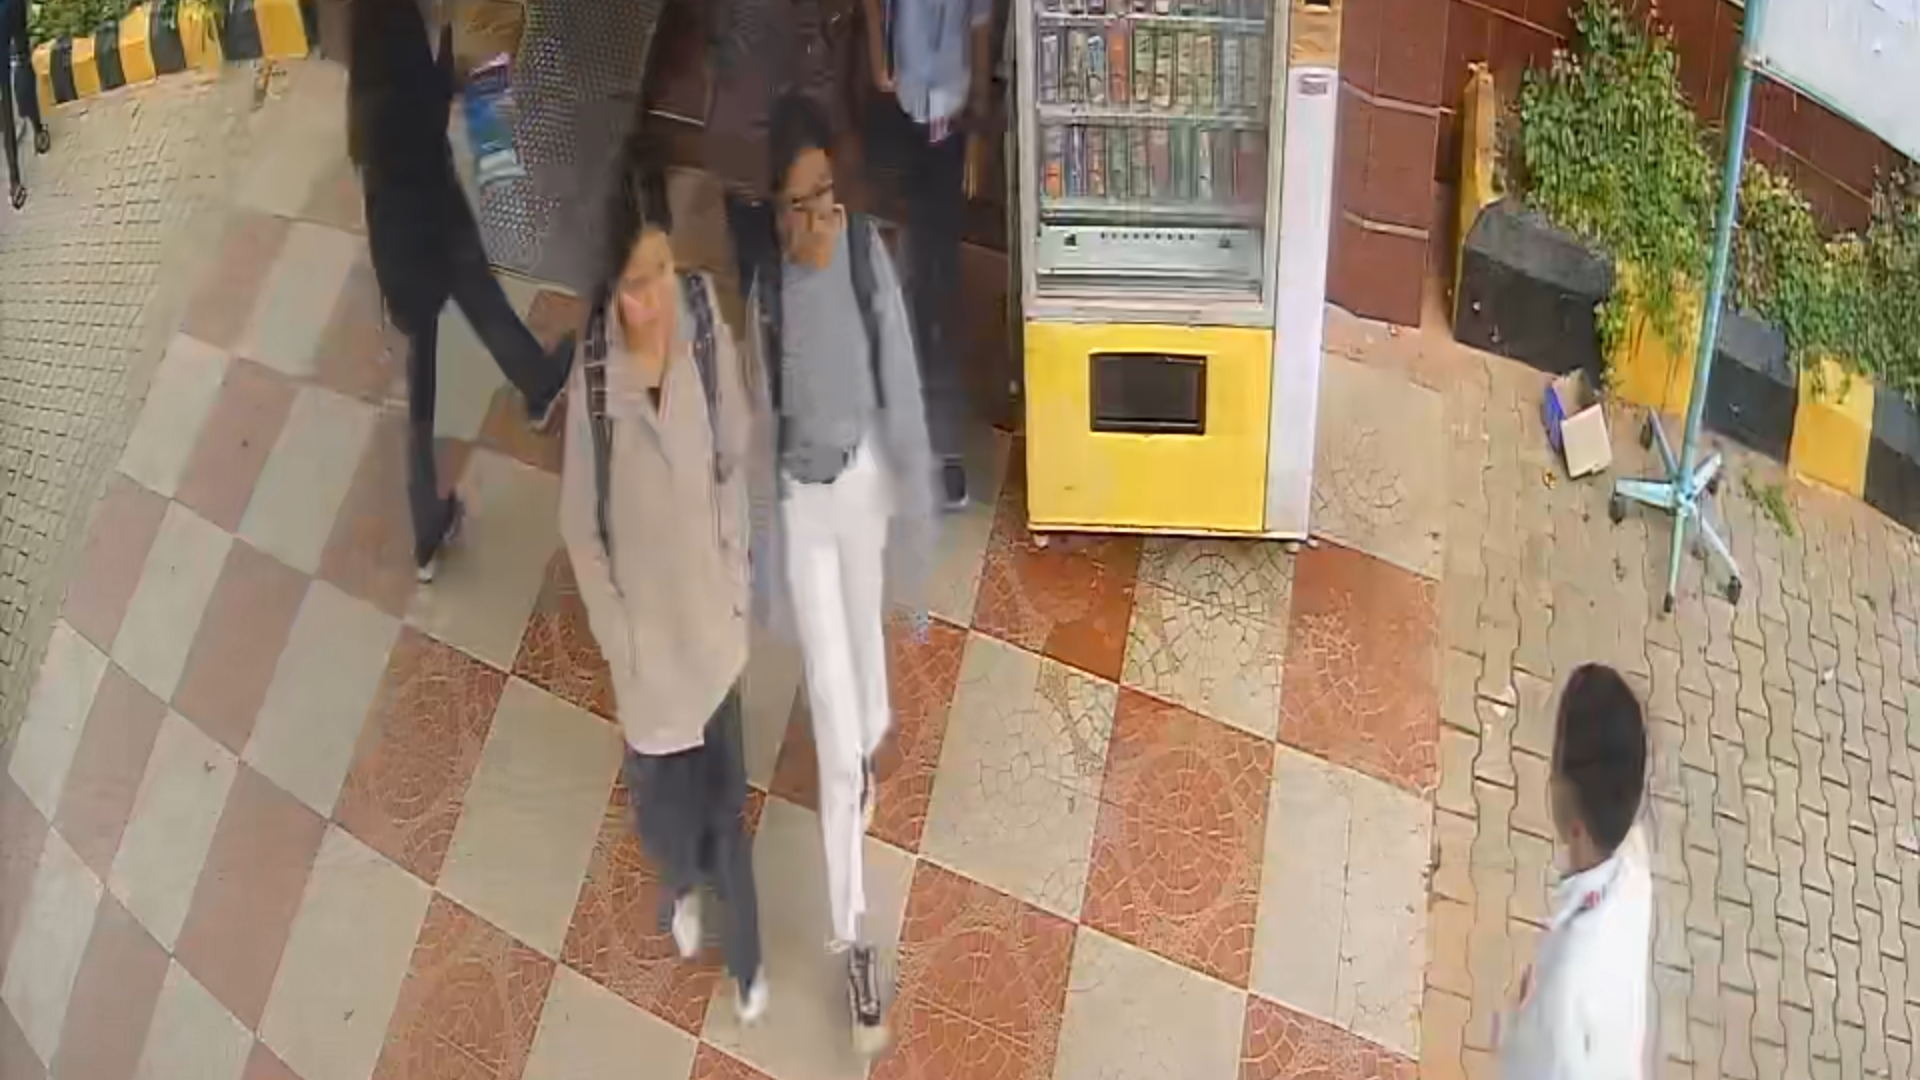intruder: (742, 104, 945, 1075), (571, 152, 789, 1022)
